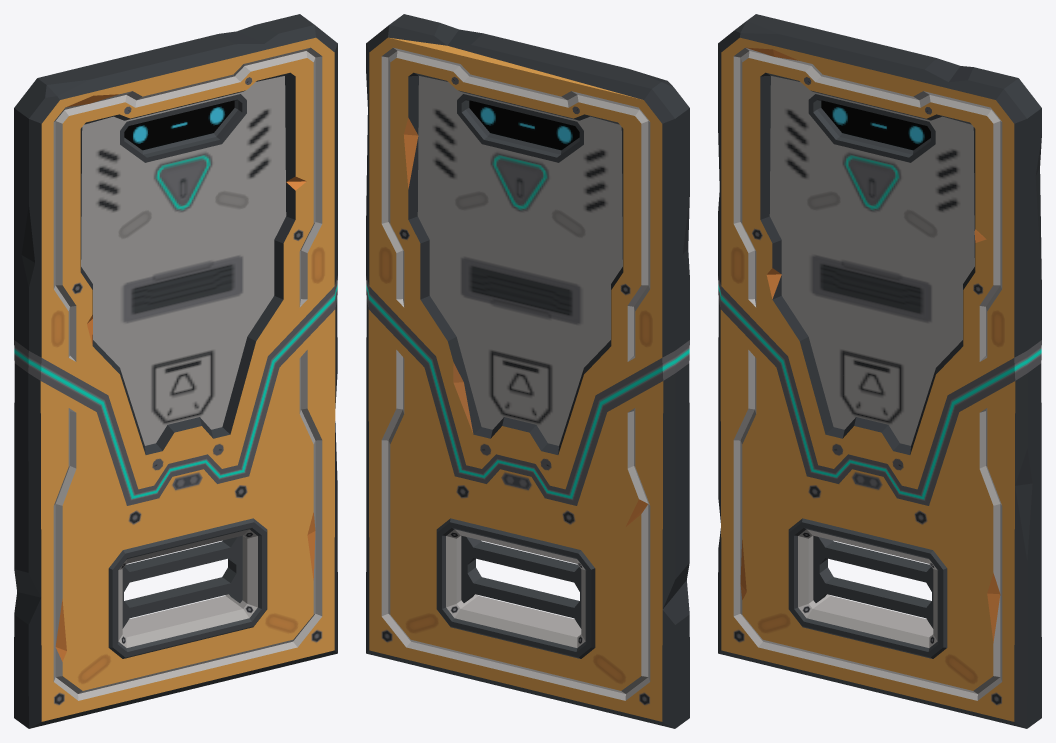
Rendered from SM_Bld_Door_NoFrame_Single_01.fbx.
3 views of the same model, side by side, from view 1: azimuth 30°, elevation 25°; view 2: azimuth 150°, elevation 25°; view 3: azimuth 330°, elevation 25° (orthographic).
Parts seen in each view (by area): view 1: SM_Bld_Door_NoFrame_Single_01; view 2: SM_Bld_Door_NoFrame_Single_01; view 3: SM_Bld_Door_NoFrame_Single_01.
Boxes of the visible parts, <box> form: SM_Bld_Door_NoFrame_Single_01: <box>14,14,337,728</box>; SM_Bld_Door_NoFrame_Single_01: <box>366,14,689,728</box>; SM_Bld_Door_NoFrame_Single_01: <box>718,14,1041,728</box>.
Size of the model in its own units: 100 by 197 by 15.42.
